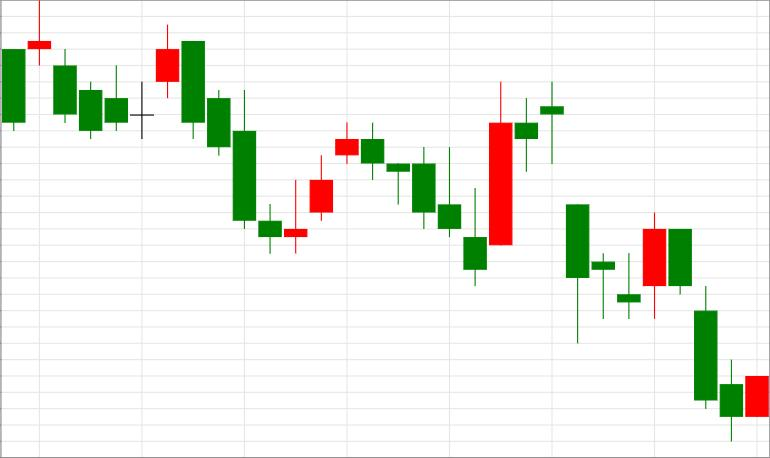inverse_hammer_rise: (361, 123, 487, 286)
three_white_soldiers_rise: (182, 41, 359, 254)
